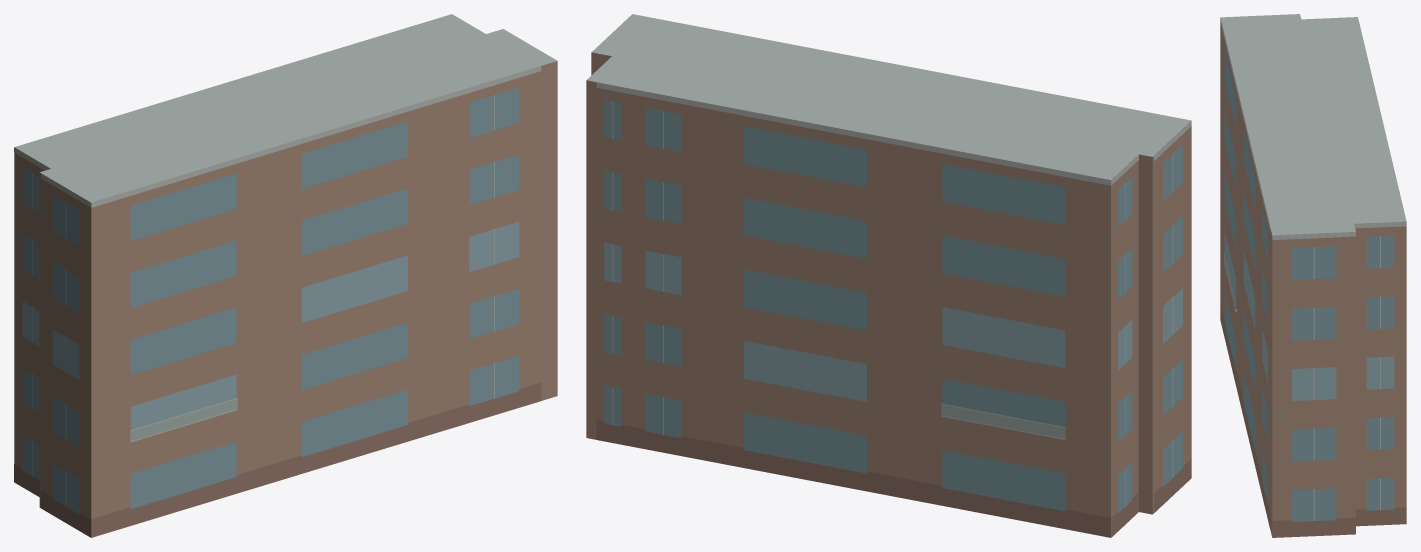
Rendered from survey-upis-32608947.glb.
3 renders of one model, left to right at view 1: azimuth 30°, elevation 25°; view 2: azimuth 150°, elevation 25°; view 3: azimuth 270°, elevation 25°, orthographic. The views are drawn at different scales.
Visible parts, largest first — view 1: survey-upis-32608947.tmp; view 2: survey-upis-32608947.tmp; view 3: survey-upis-32608947.tmp.
Boxes of the visible parts, <box> form: survey-upis-32608947.tmp: <box>14,14,557,537</box>; survey-upis-32608947.tmp: <box>586,14,1191,537</box>; survey-upis-32608947.tmp: <box>1220,14,1406,537</box>.
Bounding box in the file's own units: 24.73 × 15.75 × 8.8.
